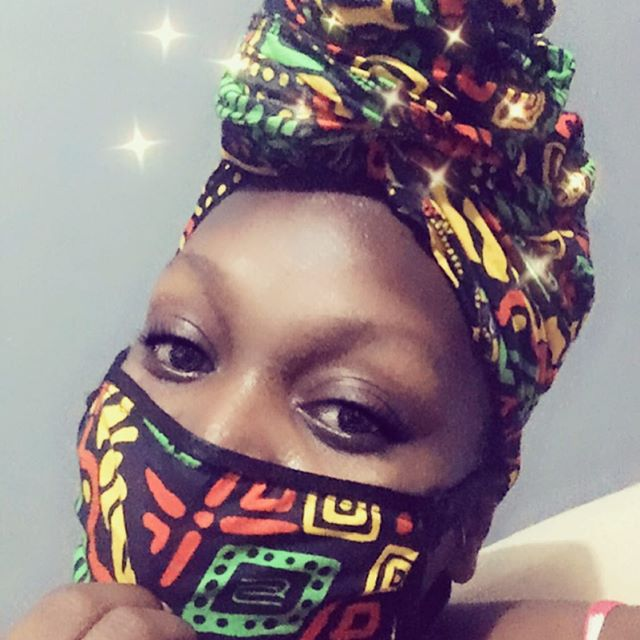homemade: (74, 387, 425, 640)
